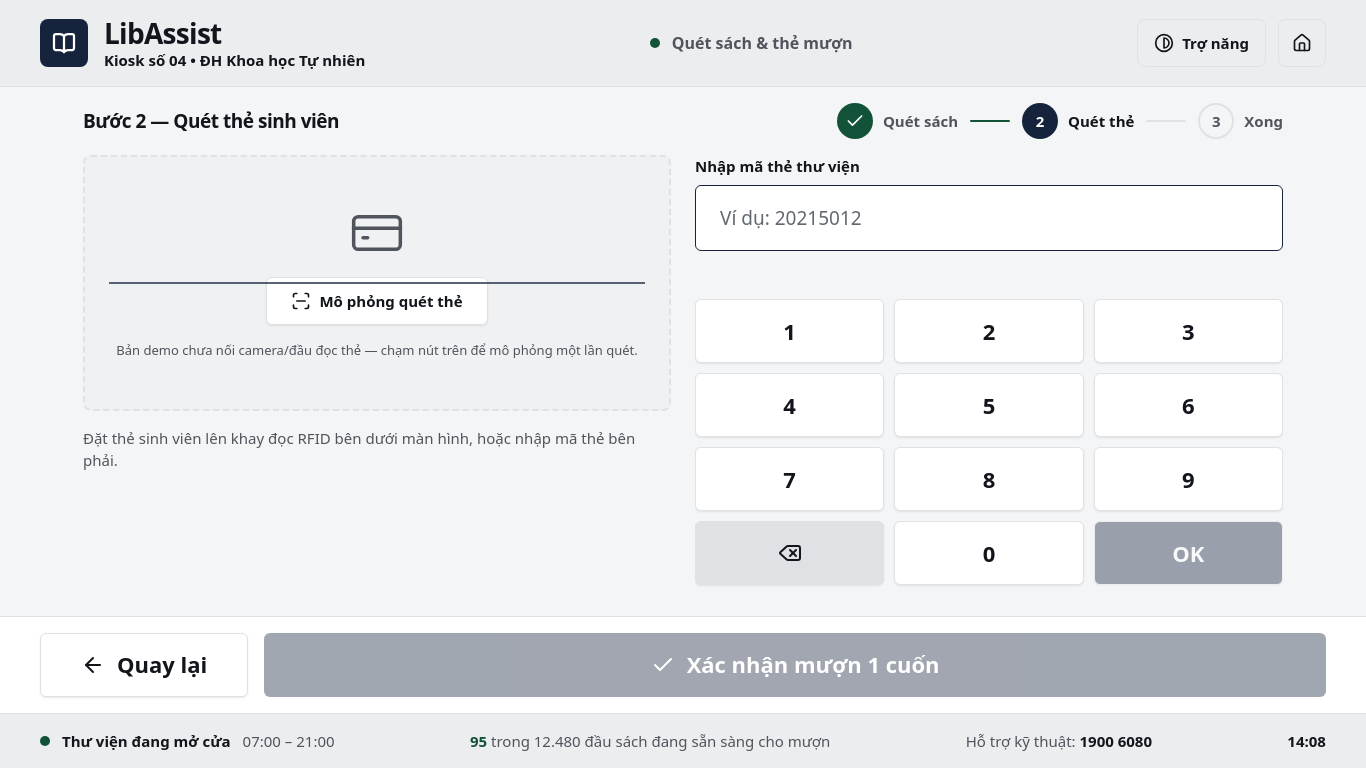
Step 2 — the card check › accepts a card in good standing and shows the due date before committing
Type "20215012" into the field labelled "Nhập mã thẻ thư viện" at (989, 218), box [720,186,1258,250]
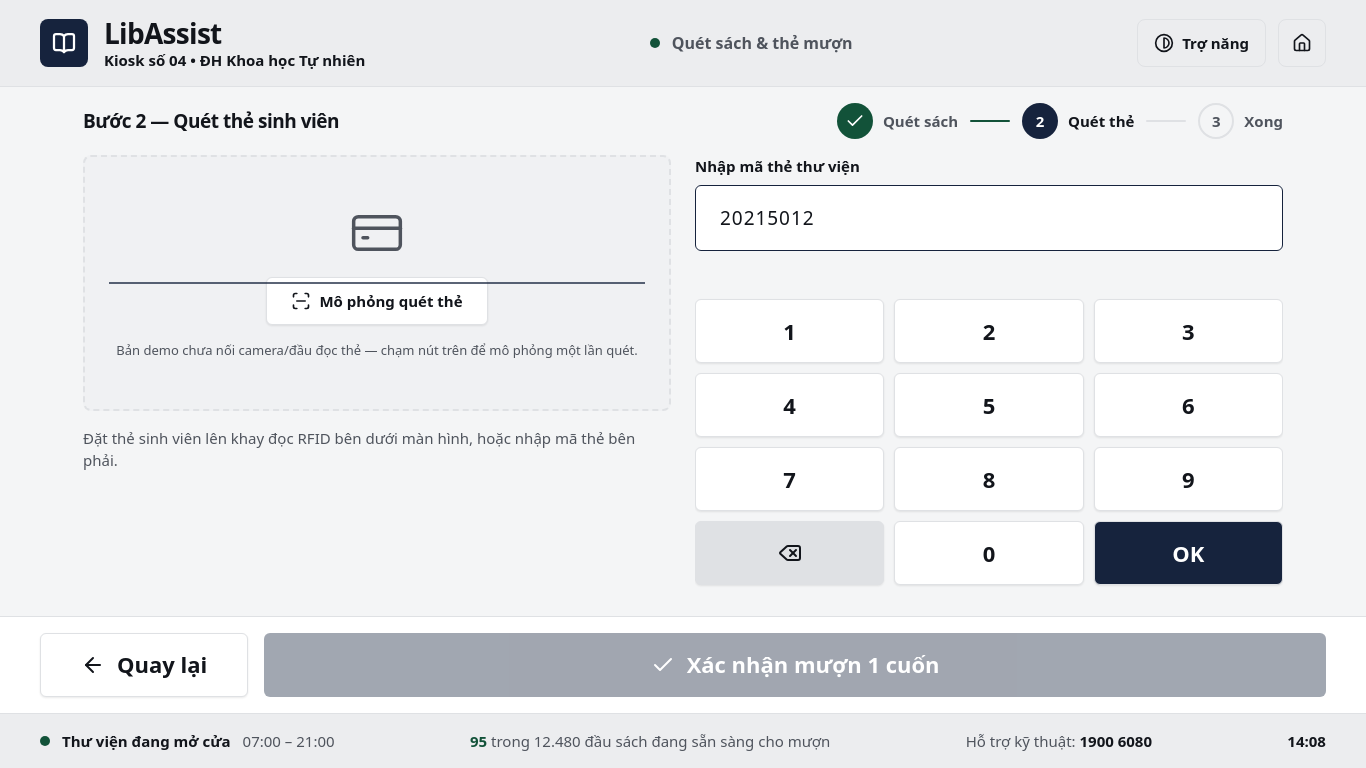
Click the button "OK" at (1188, 553), box [1094,521,1283,585]
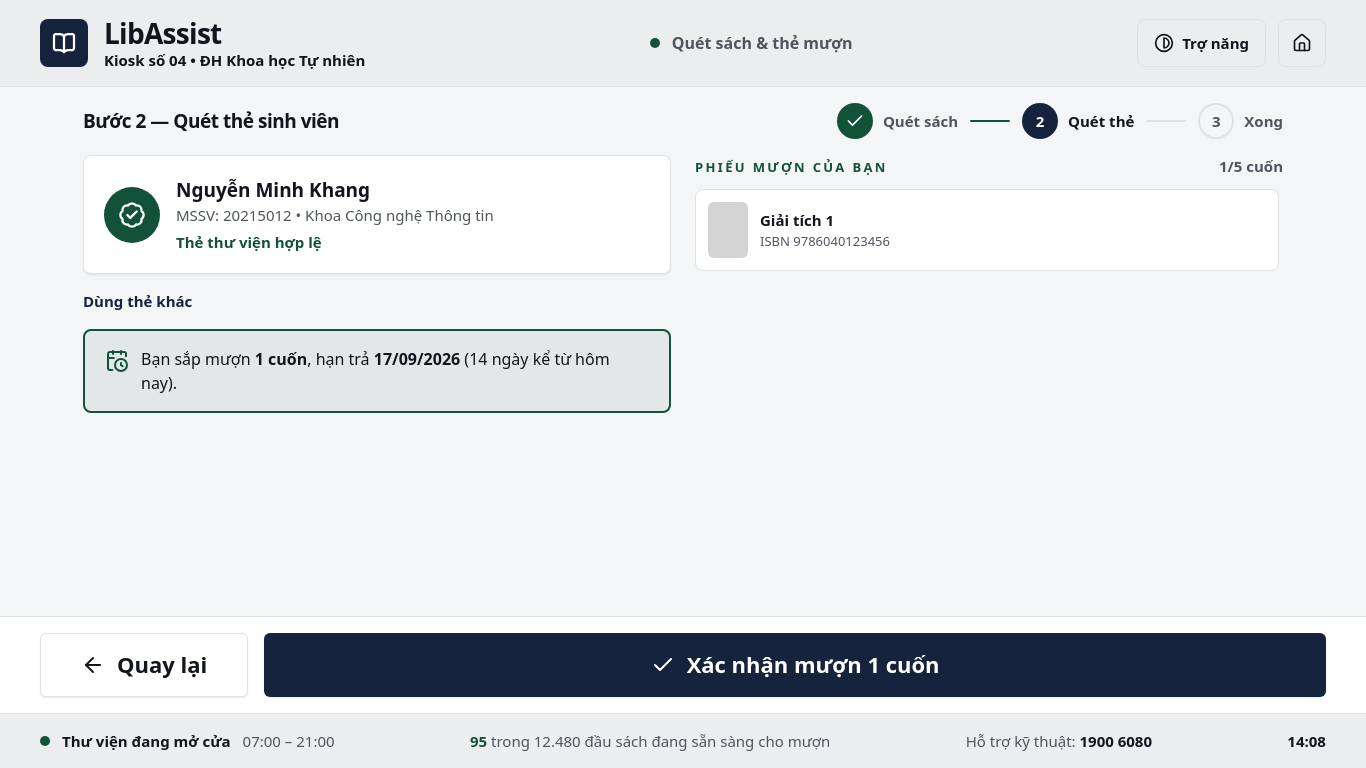
Check: the text "Nguyễn Minh Khang" is shown, box [176,177,370,203]
Check: the text "Thẻ thư viện hợp lệ" is shown, box [176,232,322,252]
Check: the text "Bạn sắp mượn" is shown, box [141,348,255,370]
